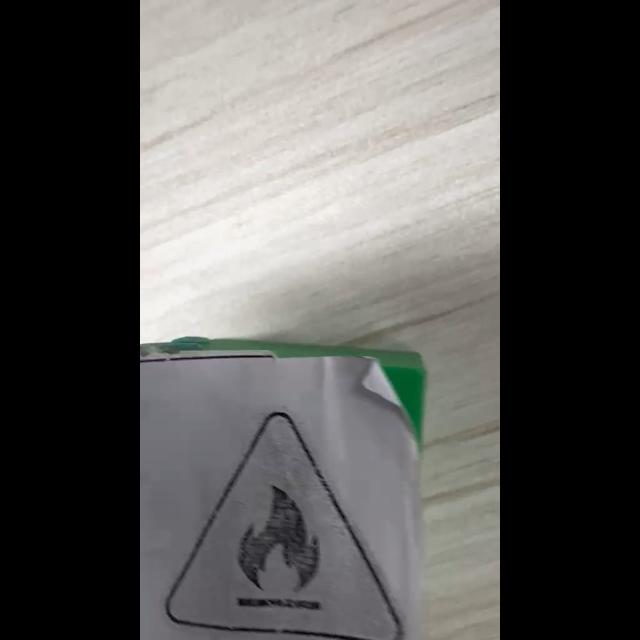Fire: (167, 412, 402, 639)
